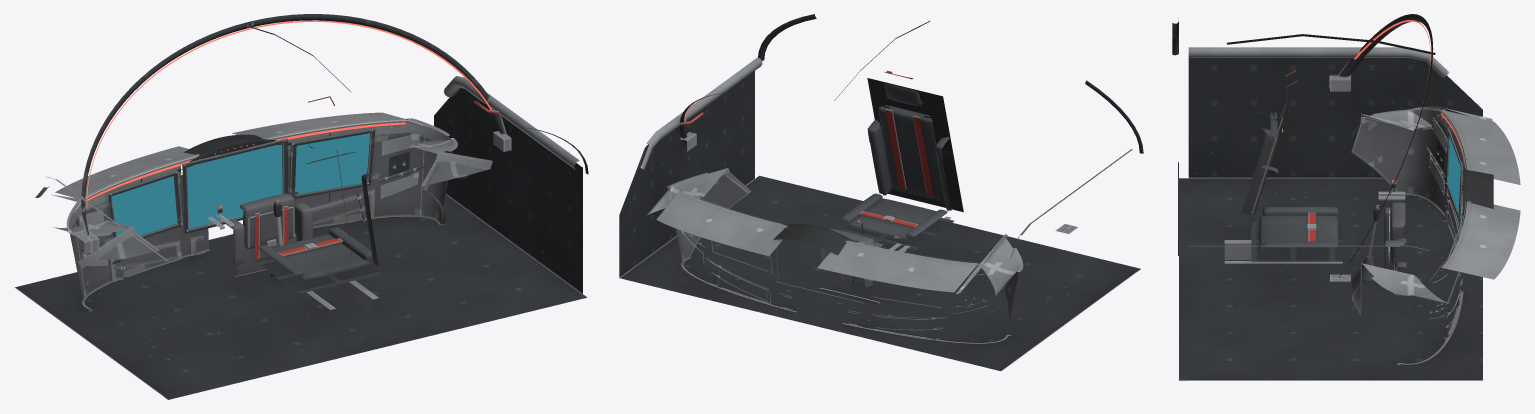
File: cockpit_sahin_m.glb
3 renders of one model, left to right at view 1: azimuth 30°, elevation 25°; view 2: azimuth 150°, elevation 25°; view 3: azimuth 270°, elevation 25°, orthographic. The views are drawn at different scales.
Visible parts, largest first — view 1: LOD0_body, SCR_RADAR, SCR_HULL, SCR_SYS, LOD0_emit; view 2: LOD0_body; view 3: LOD0_body, SCR_SYS, LOD0_emit.
Part boxes in pixels (x1,y1,x2,y2): LOD0_body: (14,14,588,399); SCR_RADAR: (187,144,282,229); SCR_HULL: (295,133,370,194); SCR_SYS: (112,176,177,235); LOD0_emit: (85,20,491,208); LOD0_body: (619,14,1143,371); LOD0_body: (1172,14,1520,380); SCR_SYS: (1448,137,1460,212); LOD0_emit: (1354,20,1464,191).
Bounding box in the file's own units: 2.61 × 1.9 × 1.83.
3 materials, 1 textured.
